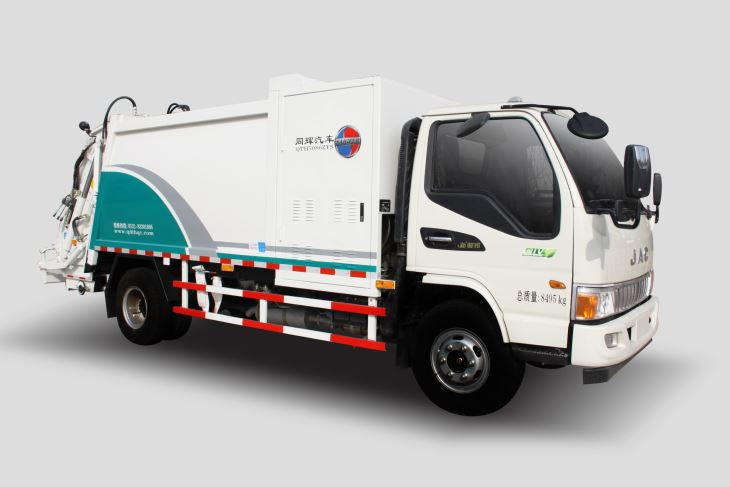truck: (53, 74, 664, 415)
